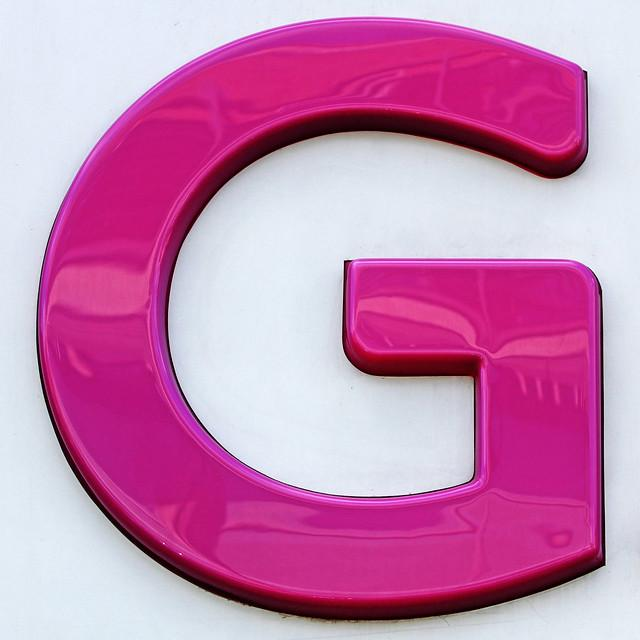G: (21, 16, 626, 628)
